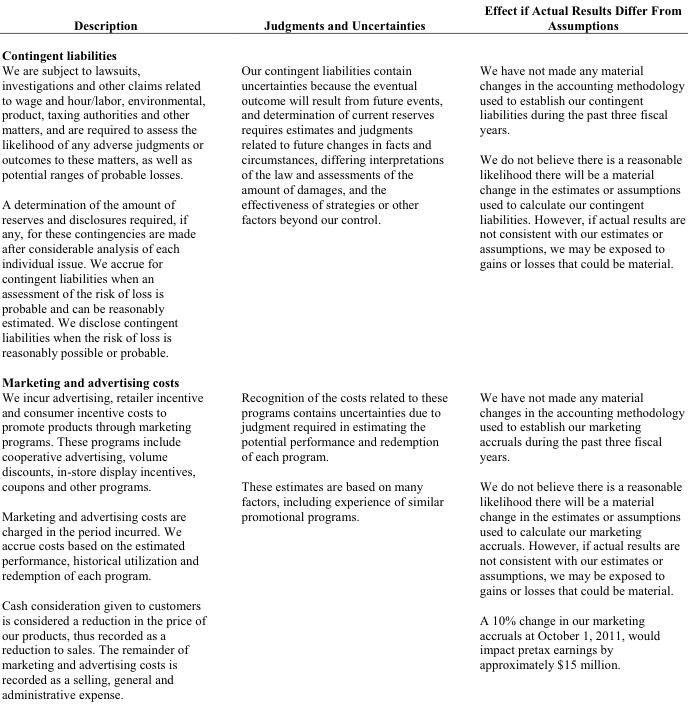table: (0, 0, 684, 701)
table column: (222, 0, 462, 701), (0, 0, 222, 701), (462, 0, 684, 701)
table column header: (0, 0, 684, 39)
table projected row header: (0, 39, 684, 62), (0, 366, 684, 389)
table row: (0, 389, 684, 701), (0, 62, 684, 366), (0, 0, 684, 39), (0, 39, 684, 62), (0, 366, 684, 389)
